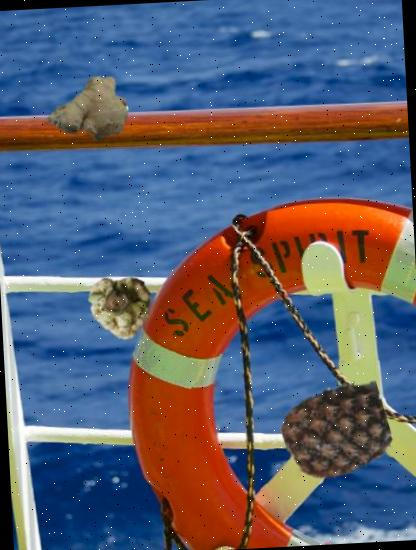Cauliflower: (85, 267, 155, 337)
Ginger: (44, 66, 131, 153)
Pineapple: (281, 375, 392, 486)
